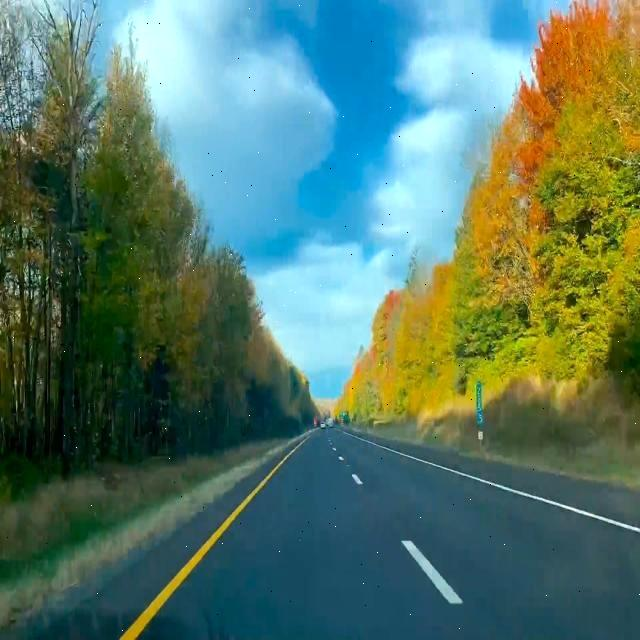lane: (119, 435, 309, 639), (344, 432, 640, 533), (402, 540, 462, 604), (351, 474, 362, 485)
road: (139, 429, 639, 639), (1, 461, 274, 639), (372, 439, 639, 527)
